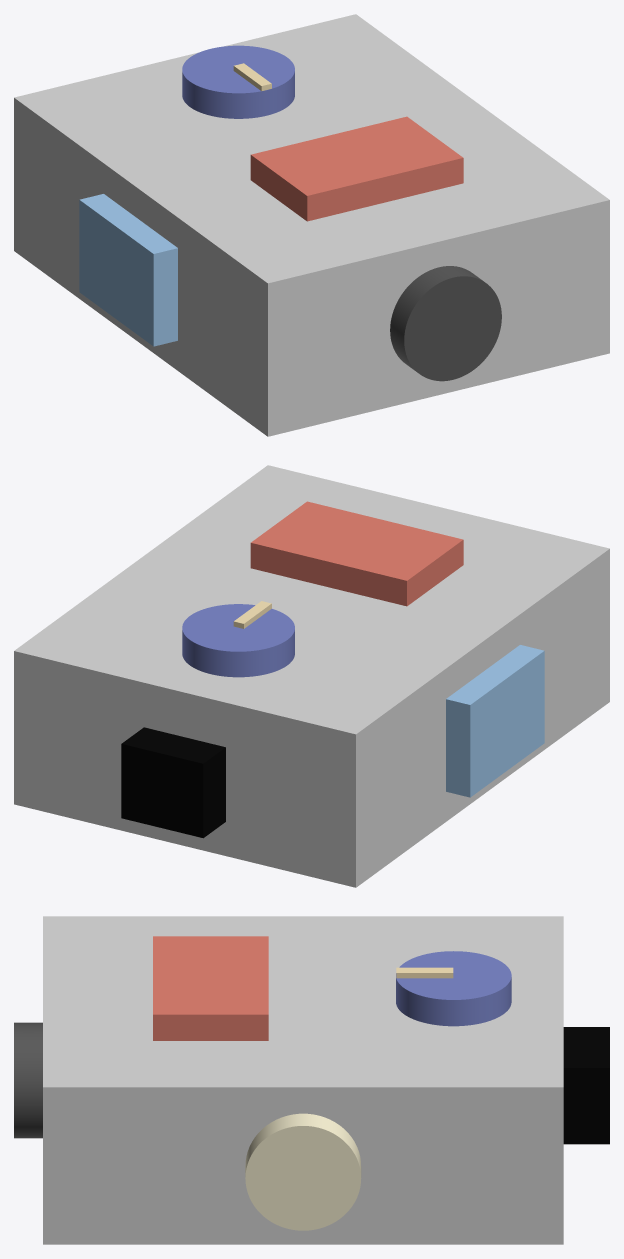
Rendered from BaseBox.glb.
The picture shows the model from 3 angles, top to bottom: view 1: azimuth 30°, elevation 25°; view 2: azimuth 150°, elevation 25°; view 3: azimuth 270°, elevation 25°; orthographic projection. The views are drawn at different scales.
Visible parts, largest first — view 1: BaseBox, Body1, Body1_node_0, Body1_node_1, Body1_node_5; view 2: BaseBox, Body1, Body1_node_0, Body1_node_2, Body1_node_5; view 3: BaseBox, Body1, Body1_node, Body1_node_5, Body1_node_2, Body1_node_1, Body1_node_4.
Boxes of the visible parts, x1,y1,x2,y2 form: BaseBox: (14, 14, 609, 436); Body1: (250, 116, 463, 221); Body1_node_0: (79, 194, 177, 346); Body1_node_1: (390, 266, 501, 381); Body1_node_5: (182, 45, 294, 118); BaseBox: (14, 465, 609, 887); Body1: (250, 501, 463, 606); Body1_node_0: (446, 645, 544, 797); Body1_node_2: (121, 727, 225, 838); Body1_node_5: (182, 604, 294, 677); BaseBox: (43, 916, 563, 1244); Body1: (153, 936, 268, 1040); Body1_node: (245, 1113, 361, 1230); Body1_node_5: (396, 951, 511, 1026); Body1_node_2: (563, 1027, 609, 1144); Body1_node_1: (14, 1022, 42, 1138); Body1_node_4: (396, 967, 453, 978).
Size of the model in its own units: 400 by 200 by 515.
